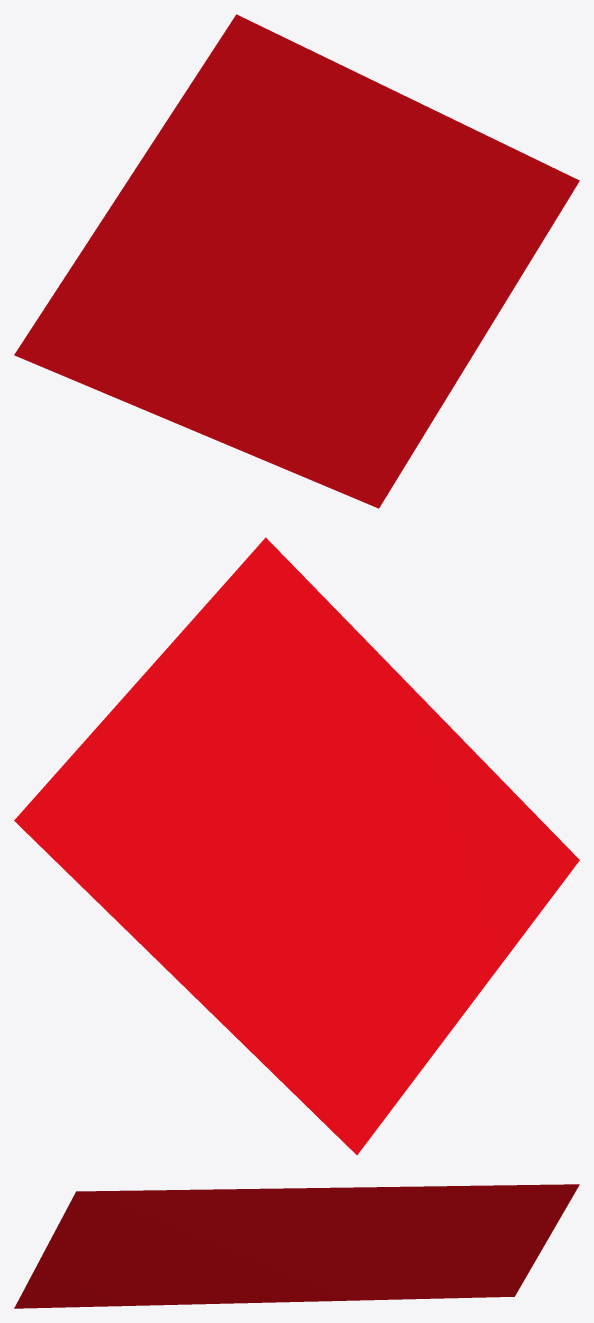
The model's file is poppyFlower_low.glb.
3 views of the same model, one above another, from view 1: azimuth 30°, elevation 25°; view 2: azimuth 150°, elevation 25°; view 3: azimuth 270°, elevation 25° (orthographic). The views are drawn at different scales.
Visible parts, largest first — view 1: Icosphere.001; view 2: Icosphere.001; view 3: Icosphere.001.
Part boxes in pixels (x1,y1,x2,y2): Icosphere.001: [14, 14, 579, 508]; Icosphere.001: [14, 537, 579, 1155]; Icosphere.001: [14, 1184, 579, 1308].
Bounding box in the file's own units: 0.179 × 0.1456 × 0.3026.
